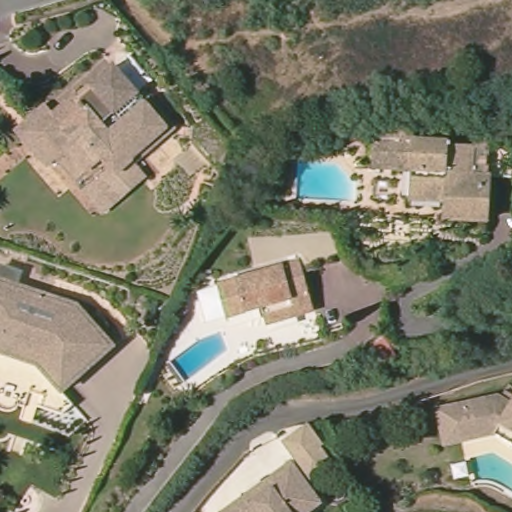pool: (170, 329, 229, 388), (291, 157, 359, 205), (465, 451, 512, 494)
